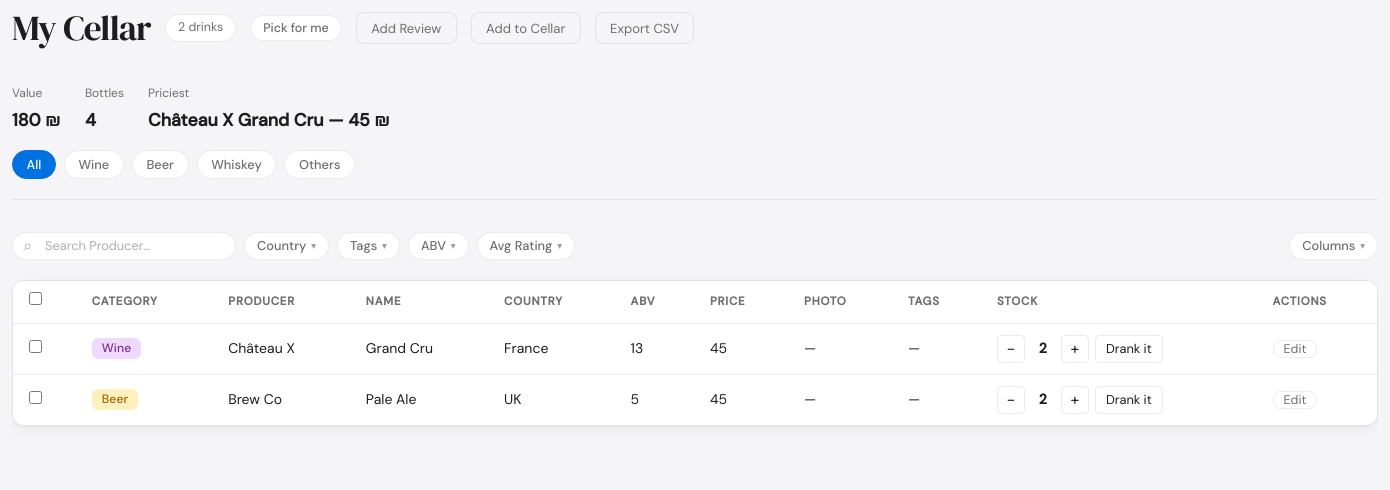
producer chip can be removed
This screenshot has width=1390, height=490.
Expected: the text "Grand Cru" is shown, left=350, top=323, right=488, bottom=374
Click the text "Château X" at (262, 348), box left=228, top=339, right=295, bottom=357
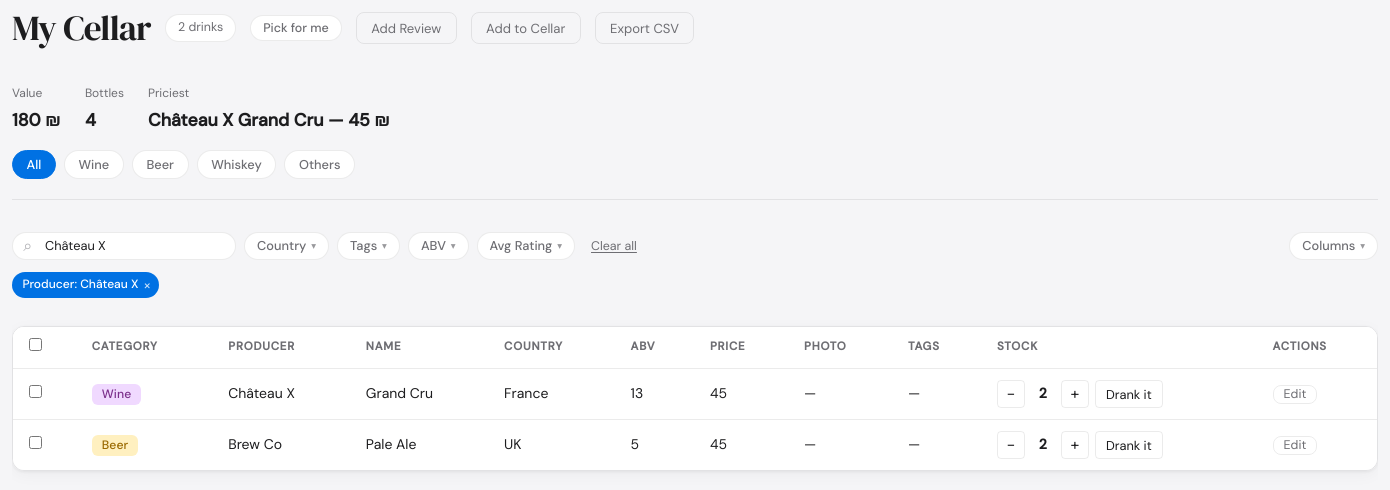
Click the button named "Remove producer filter" at (147, 285), box left=143, top=278, right=151, bottom=292
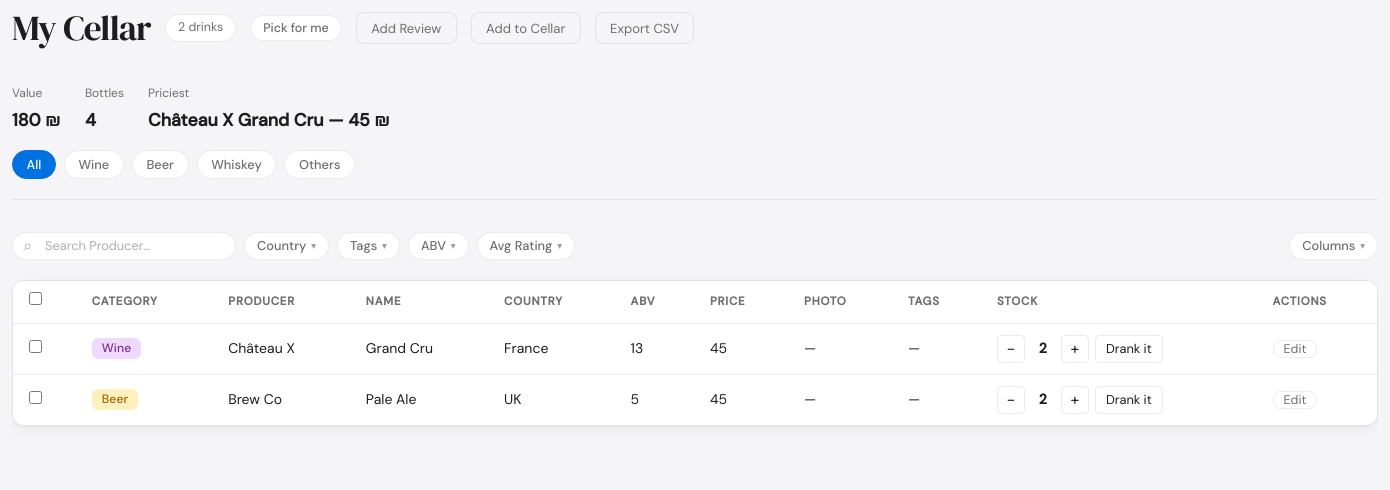
Expected: the text "Pale Ale" is shown, left=350, top=374, right=488, bottom=425
Result: the element with class "filter-chips" is gone
